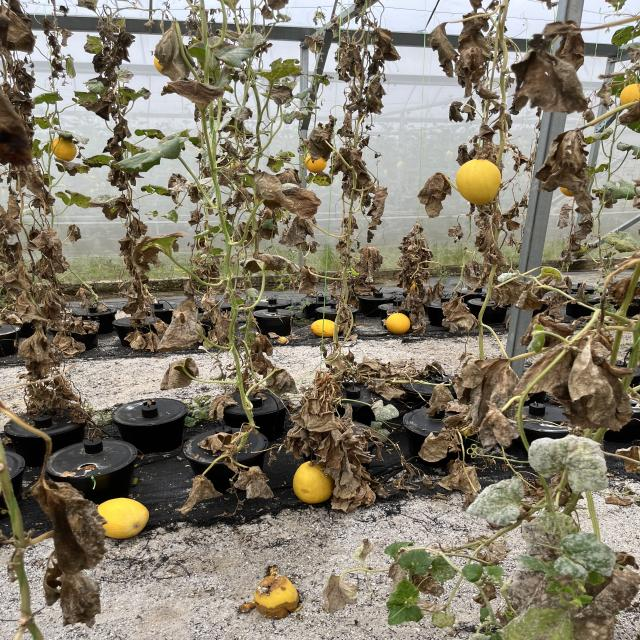CMV: (116, 134, 191, 173), (386, 578, 420, 625), (398, 548, 432, 574)
bacterial wilt: (27, 474, 108, 574), (567, 333, 633, 433), (509, 42, 590, 117), (42, 545, 105, 629), (535, 128, 593, 212), (458, 358, 521, 428), (237, 170, 321, 221), (156, 279, 201, 352), (131, 230, 188, 276), (154, 22, 196, 82), (178, 474, 225, 515), (426, 19, 458, 79), (417, 172, 453, 219), (160, 79, 225, 105), (233, 464, 277, 500), (556, 21, 586, 73), (16, 324, 52, 367), (321, 575, 360, 614), (158, 357, 200, 390), (441, 296, 478, 333), (263, 364, 304, 396), (250, 58, 304, 82), (417, 426, 452, 463), (367, 25, 400, 63), (246, 333, 276, 374), (428, 376, 462, 410), (358, 246, 386, 285), (282, 214, 316, 246), (365, 186, 389, 230), (296, 400, 336, 426), (364, 74, 388, 114), (316, 434, 348, 464), (210, 390, 239, 422)
